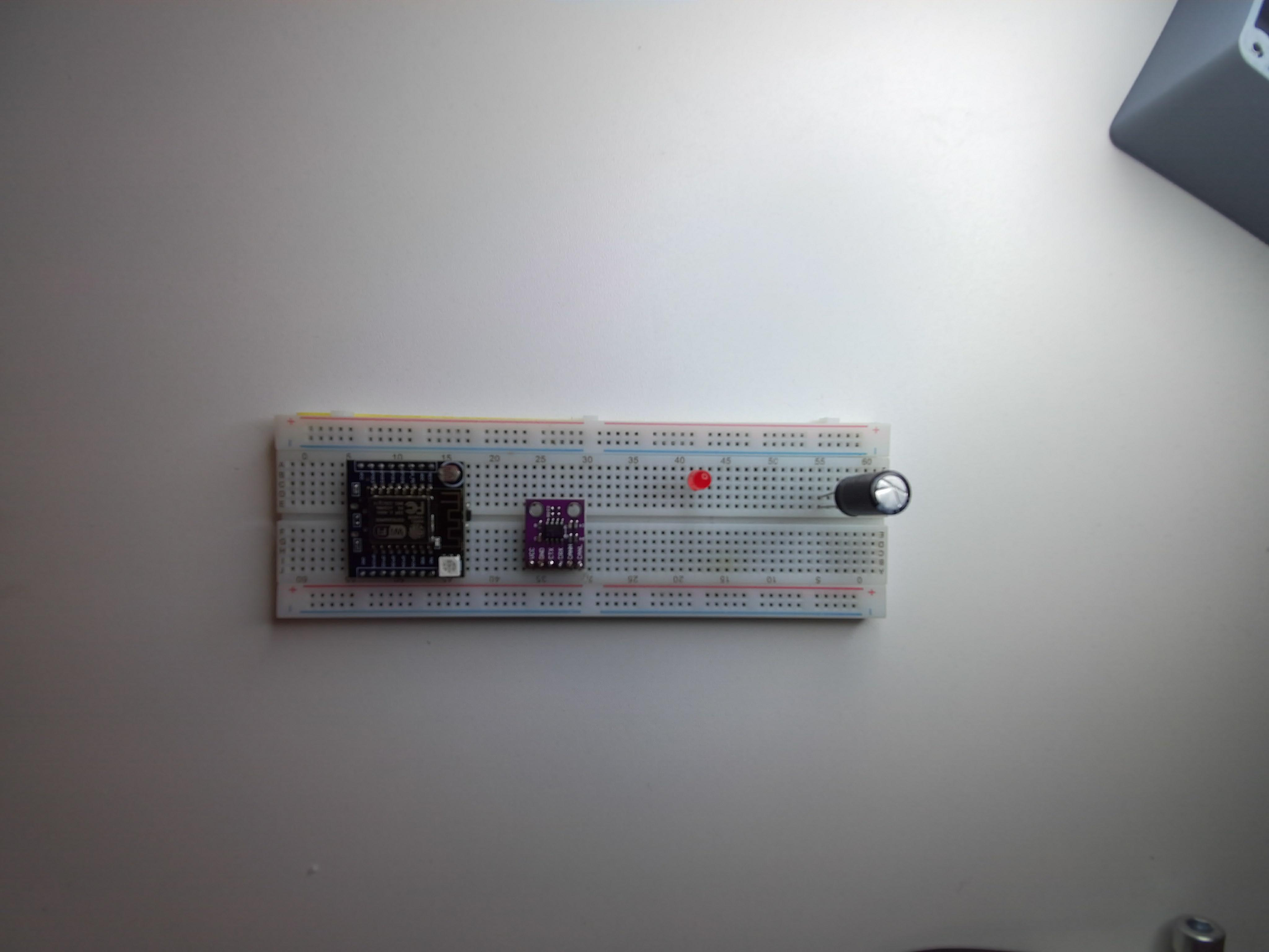base: (264, 412, 906, 624)
capacitor: (833, 466, 911, 518)
esp: (344, 456, 468, 583)
purple-board: (521, 496, 586, 573)
red-led: (688, 467, 712, 494)
